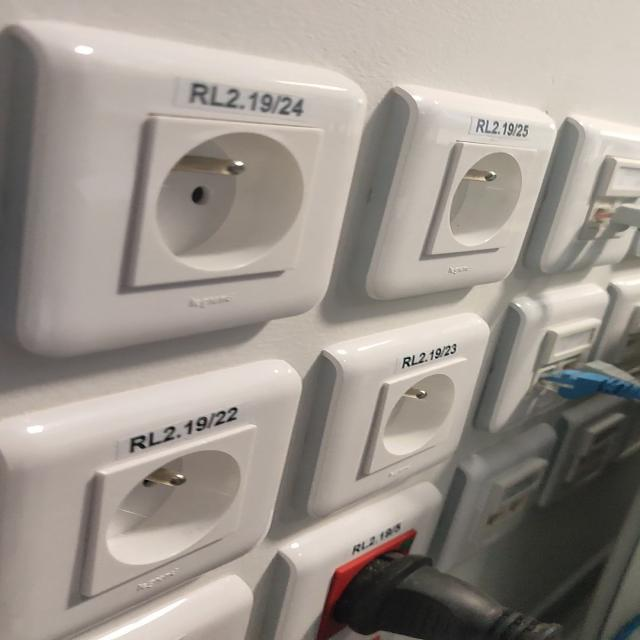house plug: (130, 115, 324, 289), (86, 427, 254, 596), (430, 142, 534, 255), (368, 359, 464, 474)
